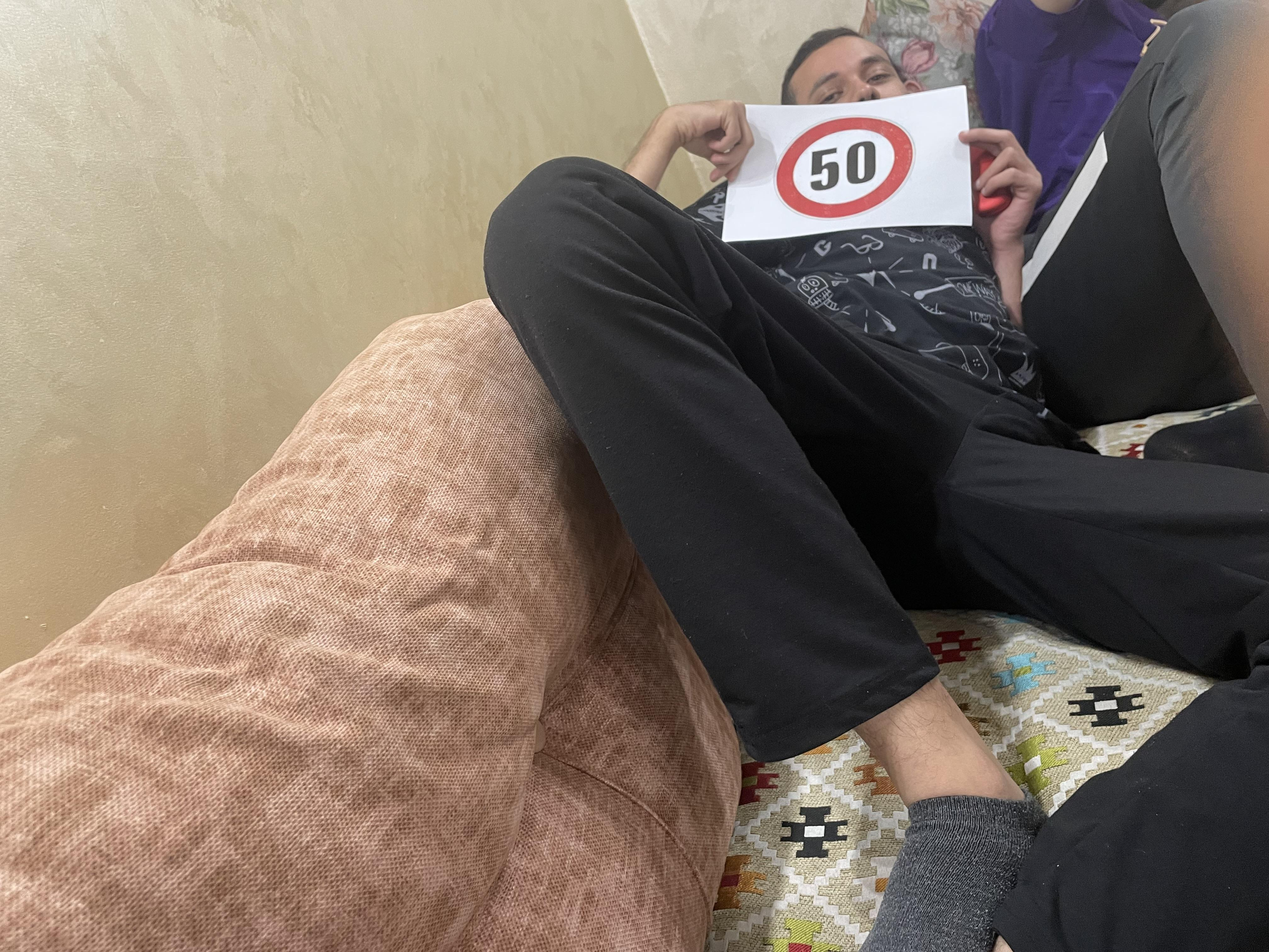50-Speed: (778, 117, 916, 216)
